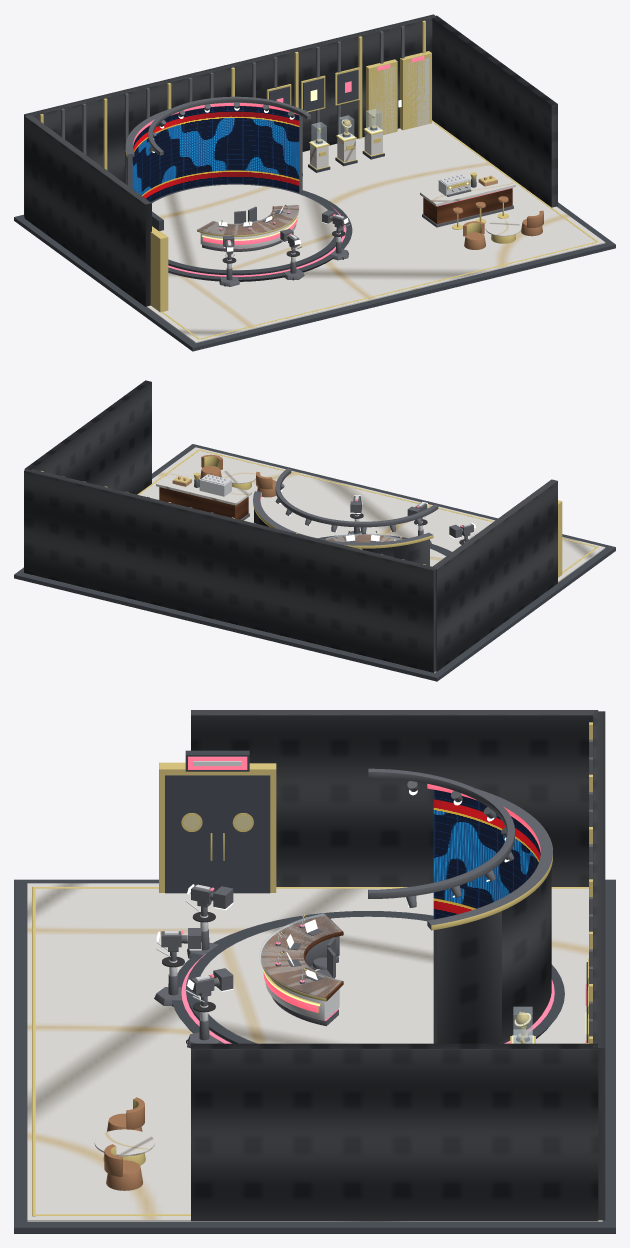
Rendered from haber_global_studio_props.glb.
3 views of the same model, one above another, from view 1: azimuth 30°, elevation 25°; view 2: azimuth 150°, elevation 25°; view 3: azimuth 270°, elevation 25° (orthographic). The views are drawn at different scales.
Visible parts, largest first — view 1: HG_Studio_Architectural_Shell, HG_Studio_Doors_And_Elevator_Lobby, HG_VIP_Coffee_Lounge_Barista, HG_Trophy_Corridor_Awards, HG_Curved_Anchor_Desk, HG_Broadcast_Pedestal_Cameras; view 2: HG_Studio_Architectural_Shell, HG_VIP_Coffee_Lounge_Barista, HG_Broadcast_Pedestal_Cameras, HG_Curved_Anchor_Desk; view 3: HG_Studio_Architectural_Shell, HG_Studio_Doors_And_Elevator_Lobby, HG_Curved_Anchor_Desk, HG_Broadcast_Pedestal_Cameras, HG_VIP_Coffee_Lounge_Barista, HG_Trophy_Corridor_Awards.
Part boxes in pixels (left/top/right/bottom): HG_Studio_Architectural_Shell: left=14, top=14, right=615, bottom=351; HG_Studio_Doors_And_Elevator_Lobby: left=150, top=51, right=431, bottom=312; HG_VIP_Coffee_Lounge_Barista: left=420, top=172, right=543, bottom=249; HG_Trophy_Corridor_Awards: left=266, top=67, right=384, bottom=175; HG_Curved_Anchor_Desk: left=197, top=204, right=299, bottom=251; HG_Broadcast_Pedestal_Cameras: left=219, top=210, right=349, bottom=286; HG_Studio_Architectural_Shell: left=14, top=380, right=615, bottom=681; HG_VIP_Coffee_Lounge_Barista: left=156, top=454, right=276, bottom=520; HG_Broadcast_Pedestal_Cameras: left=347, top=495, right=477, bottom=544; HG_Curved_Anchor_Desk: left=325, top=530, right=402, bottom=542; HG_Studio_Architectural_Shell: left=14, top=710, right=615, bottom=1233; HG_Studio_Doors_And_Elevator_Lobby: left=159, top=750, right=588, bottom=1043; HG_Curved_Anchor_Desk: left=259, top=913, right=343, bottom=1026; HG_Broadcast_Pedestal_Cameras: left=154, top=884, right=233, bottom=1048; HG_VIP_Coffee_Lounge_Barista: left=94, top=1097, right=154, bottom=1190; HG_Trophy_Corridor_Awards: left=510, top=958, right=588, bottom=1043.
Size of the model in its own units: 18.6 by 4.5 by 13.6.
Materials: 17 (4 with a texture image).
